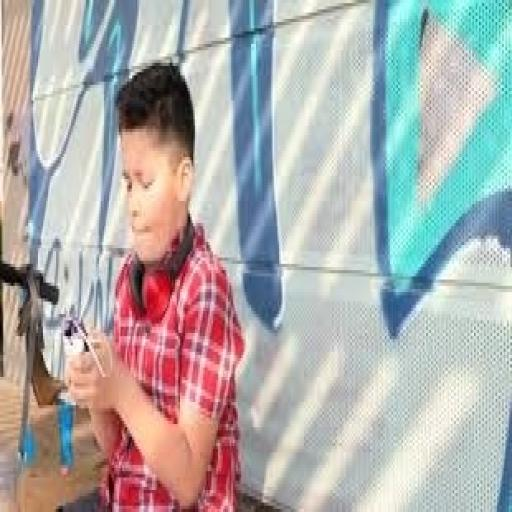texting: (58, 56, 246, 509)
